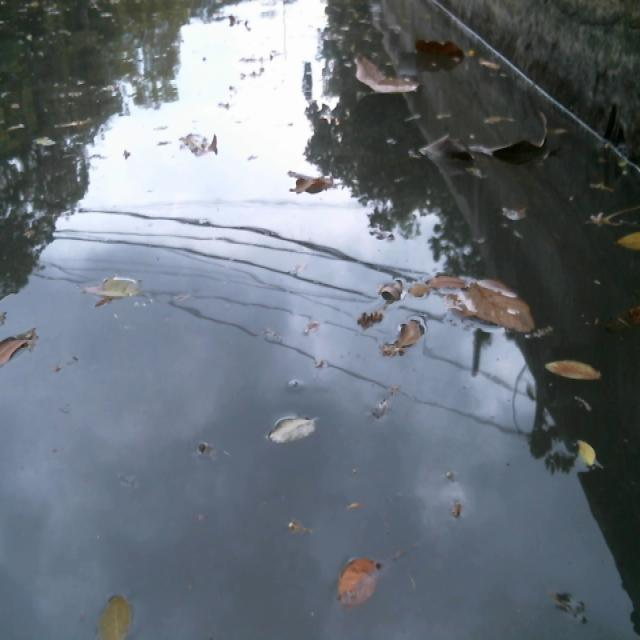Big-leaf: (444, 269, 553, 337), (469, 127, 558, 172), (348, 43, 422, 96), (417, 125, 483, 182), (410, 28, 472, 68)
Small-leaf: (334, 553, 382, 607), (92, 593, 142, 640), (540, 351, 602, 388), (78, 271, 145, 302), (379, 316, 426, 359), (0, 326, 40, 370), (568, 430, 605, 475), (264, 416, 323, 443), (283, 169, 338, 194), (404, 275, 435, 308), (375, 282, 412, 307), (493, 198, 532, 221), (472, 51, 504, 75), (610, 227, 640, 252), (623, 294, 640, 332), (202, 131, 225, 159), (476, 113, 510, 129), (432, 105, 451, 124)
